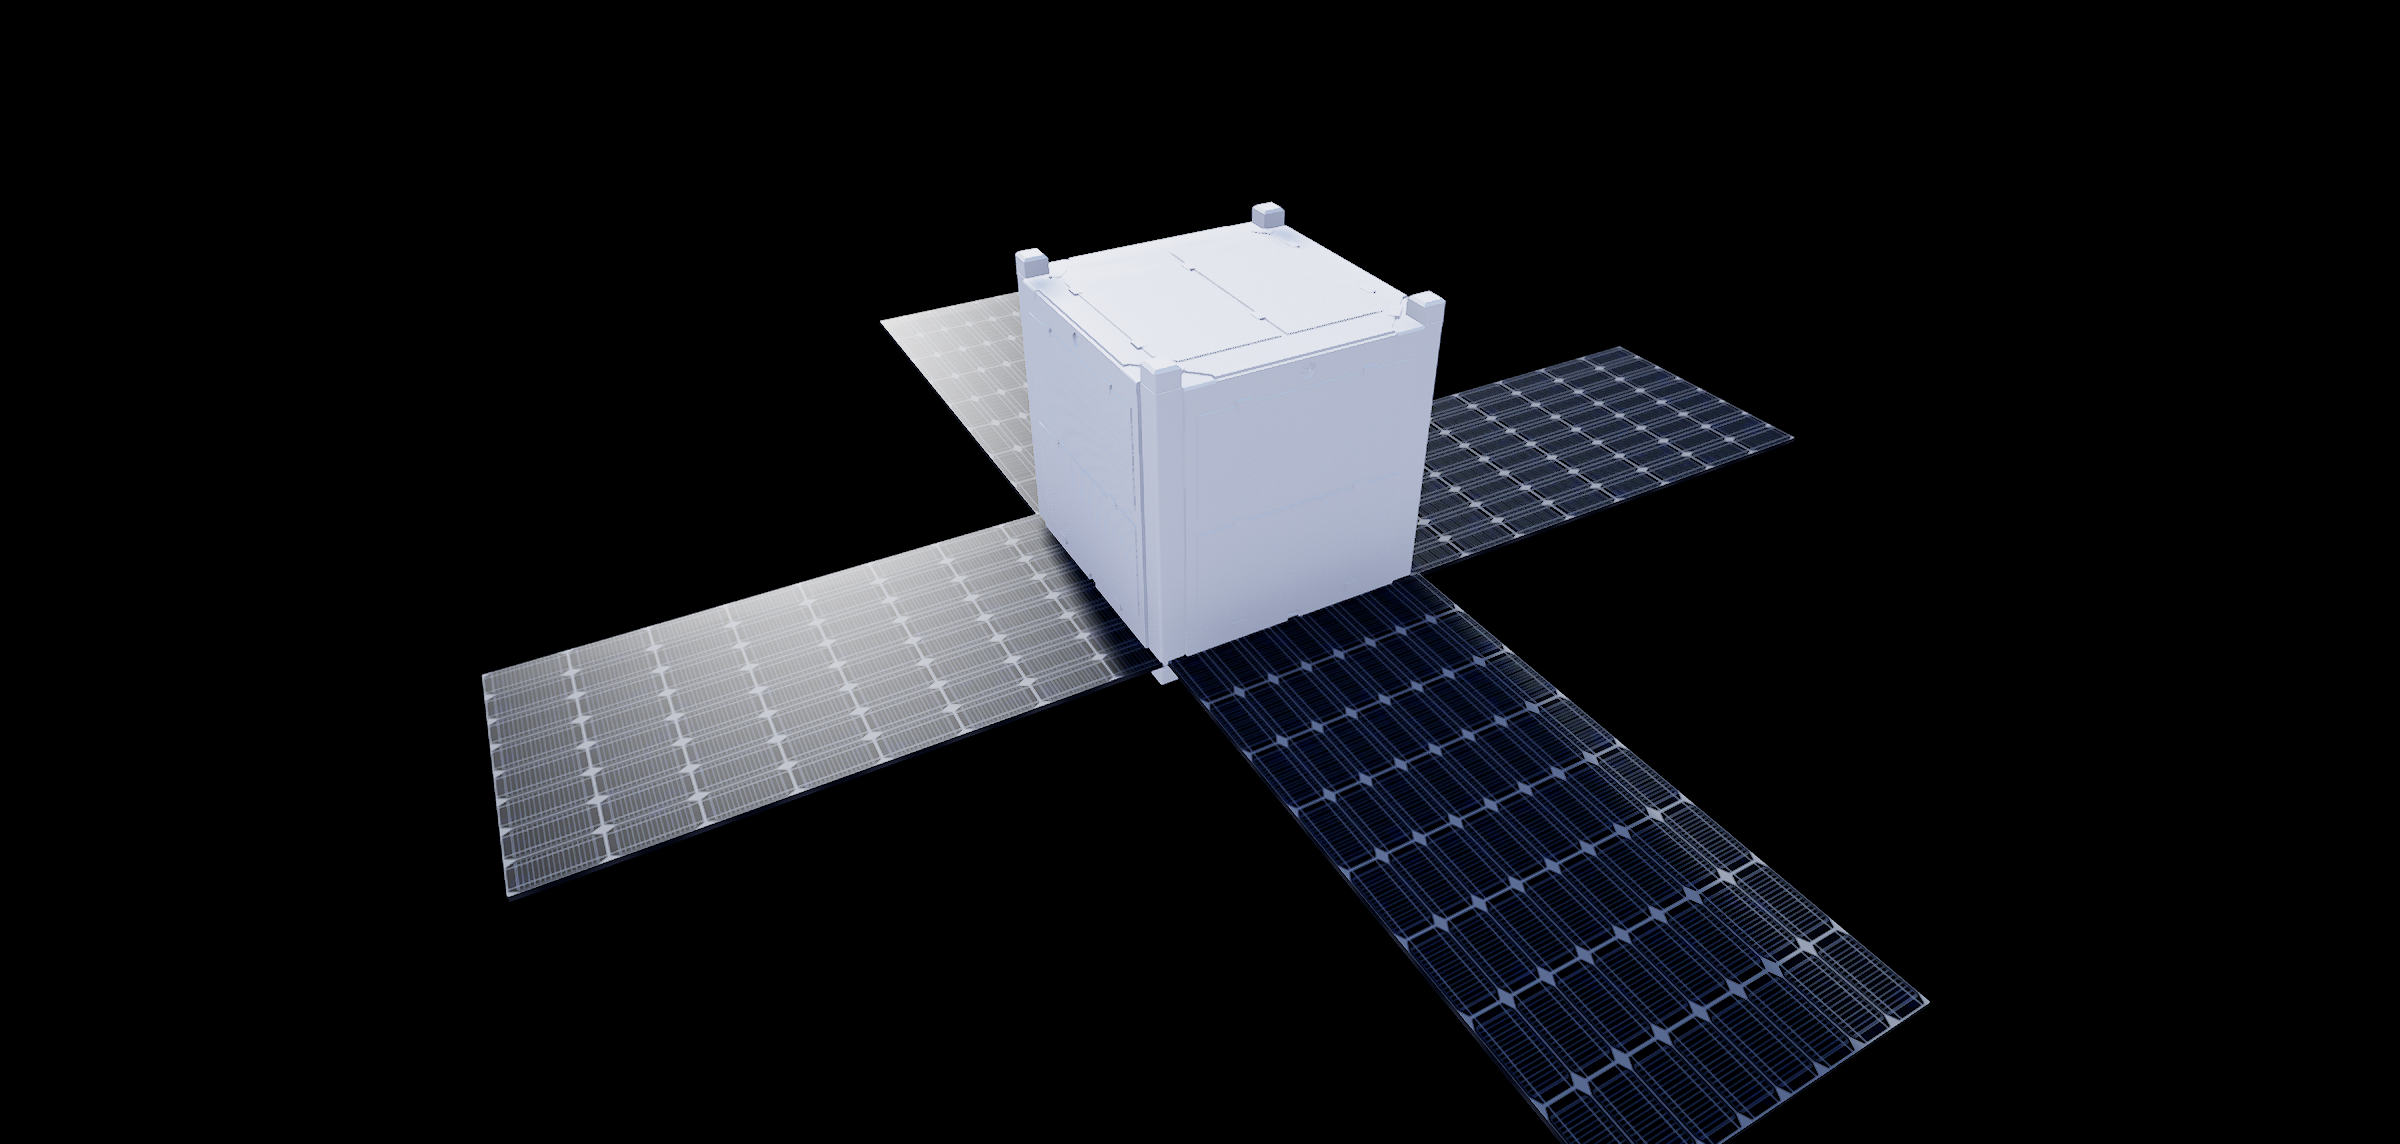satellite: (421, 208, 2027, 1126)
